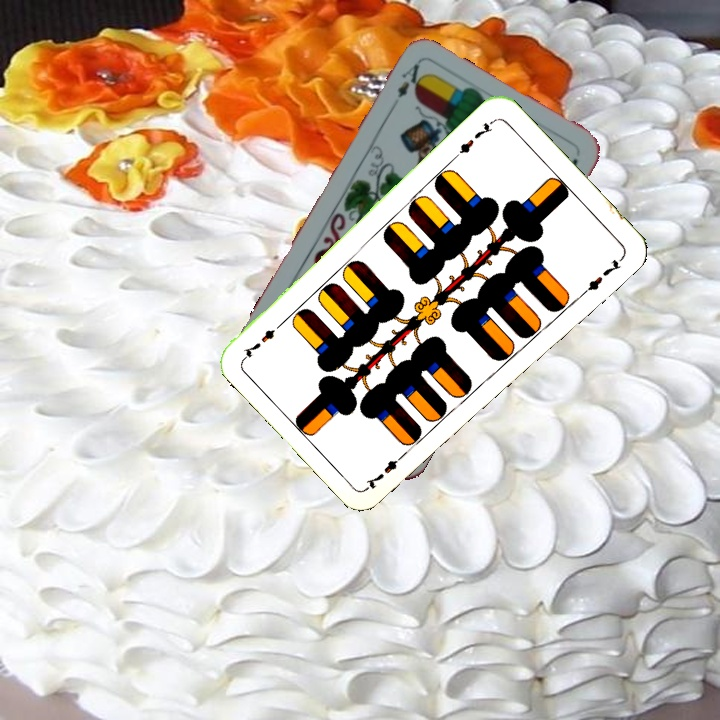E7: (362, 446, 411, 492), (451, 116, 498, 161)
EA: (393, 59, 425, 101)
